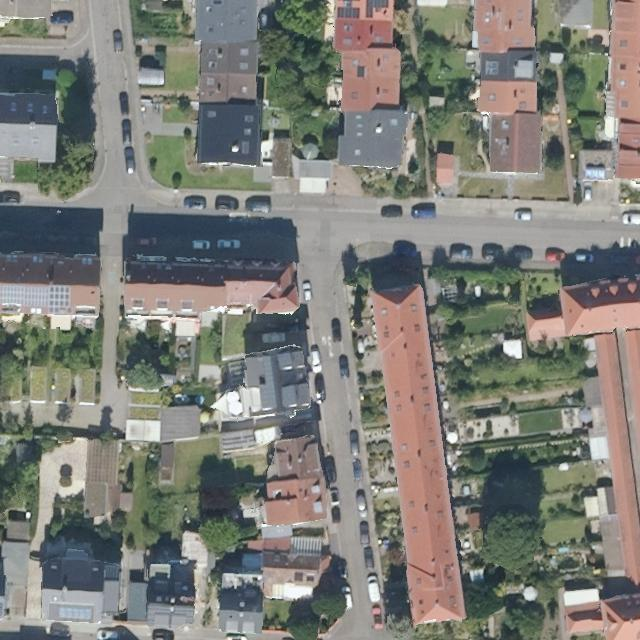PV: (2, 282, 50, 307), (48, 285, 74, 314), (363, 0, 390, 21), (335, 5, 362, 20)
